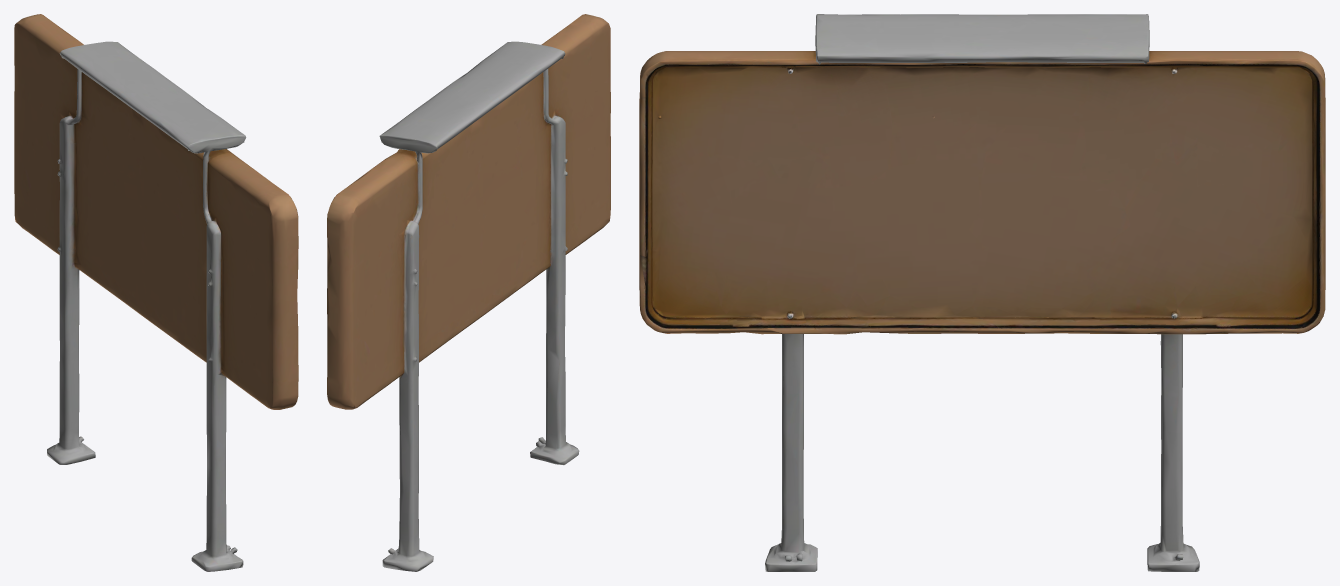
File: road-sign.glb
The picture shows the model from 3 angles, left to right: view 1: azimuth 30°, elevation 25°; view 2: azimuth 150°, elevation 25°; view 3: azimuth 270°, elevation 25°; orthographic projection. The views are drawn at different scales.
Visible parts, largest first — view 1: tripo_node_d1684e4e-3b19-46ec-8205-a76f2ae66944; view 2: tripo_node_d1684e4e-3b19-46ec-8205-a76f2ae66944; view 3: tripo_node_d1684e4e-3b19-46ec-8205-a76f2ae66944.
Part boxes in pixels (bbox=[...]): tripo_node_d1684e4e-3b19-46ec-8205-a76f2ae66944: bbox=[14, 14, 298, 571]; tripo_node_d1684e4e-3b19-46ec-8205-a76f2ae66944: bbox=[327, 14, 610, 571]; tripo_node_d1684e4e-3b19-46ec-8205-a76f2ae66944: bbox=[639, 14, 1325, 571].
Bounding box in the file's own units: 0.1264 × 0.8654 × 1.
1 material, 1 textured.
